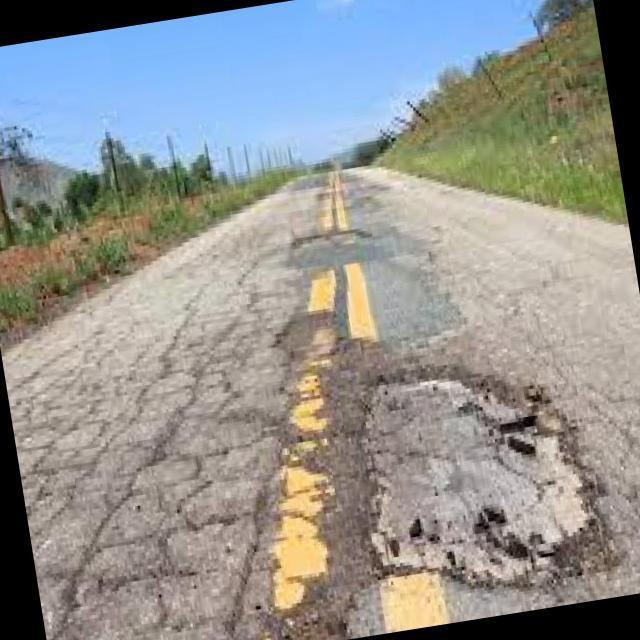Pothole: (358, 373, 604, 589), (288, 235, 389, 266)
